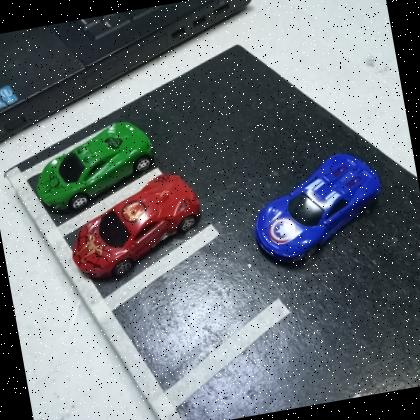Car: (243, 146, 393, 270), (61, 167, 211, 284), (25, 115, 163, 217)
